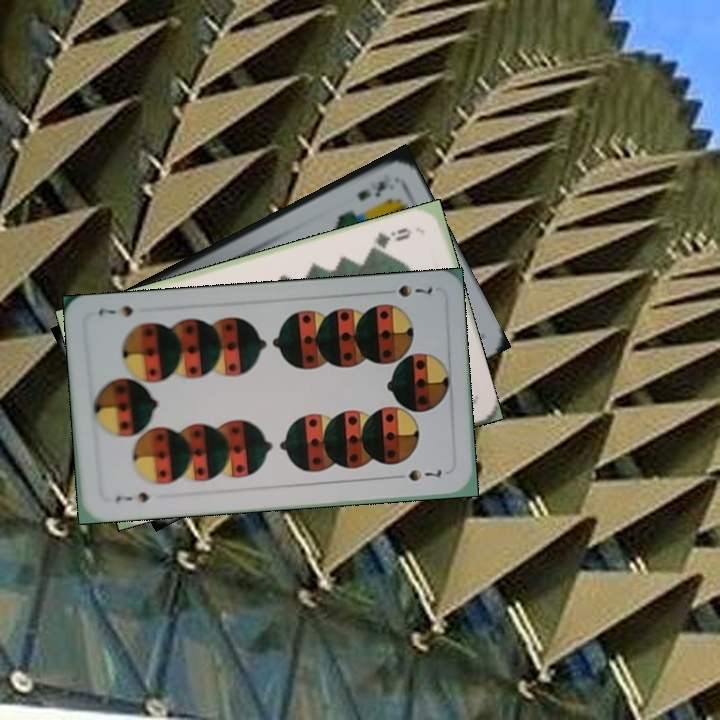EK: (353, 176, 390, 204)
G9: (365, 223, 415, 255)
S7: (394, 281, 435, 300), (111, 488, 151, 505)
